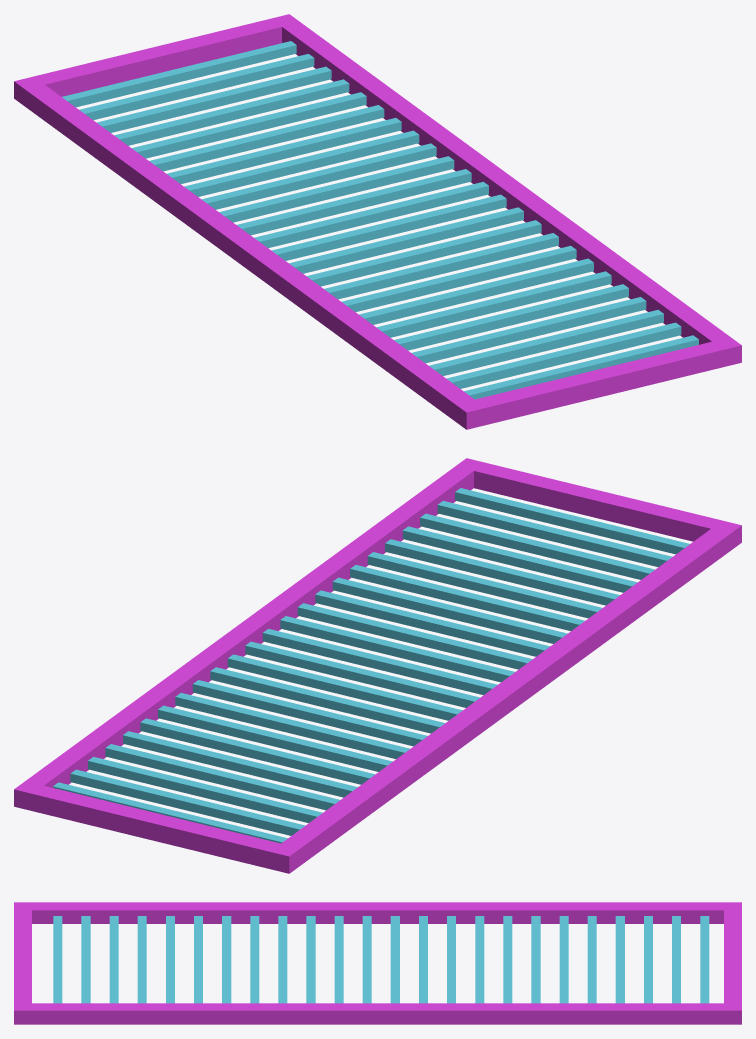
Rendered from mazgal.fbx.
3 renders of one model, top to bottom at view 1: azimuth 30°, elevation 25°; view 2: azimuth 150°, elevation 25°; view 3: azimuth 270°, elevation 25°, orthographic. The views are drawn at different scales.
Parts seen in each view (by area): view 1: Cube.002, Cube; view 2: Cube.002, Cube; view 3: Cube, Cube.002.
Boxes of the visible parts, <box> form: Cube.002: <box>62,41,698,399</box>; Cube: <box>14,14,741,429</box>; Cube.002: <box>53,488,689,843</box>; Cube: <box>14,458,741,873</box>; Cube: <box>14,902,741,1024</box>; Cube.002: <box>53,916,709,1003</box>.
Size of the model in its own units: 2 by 0.12 by 5.69.
